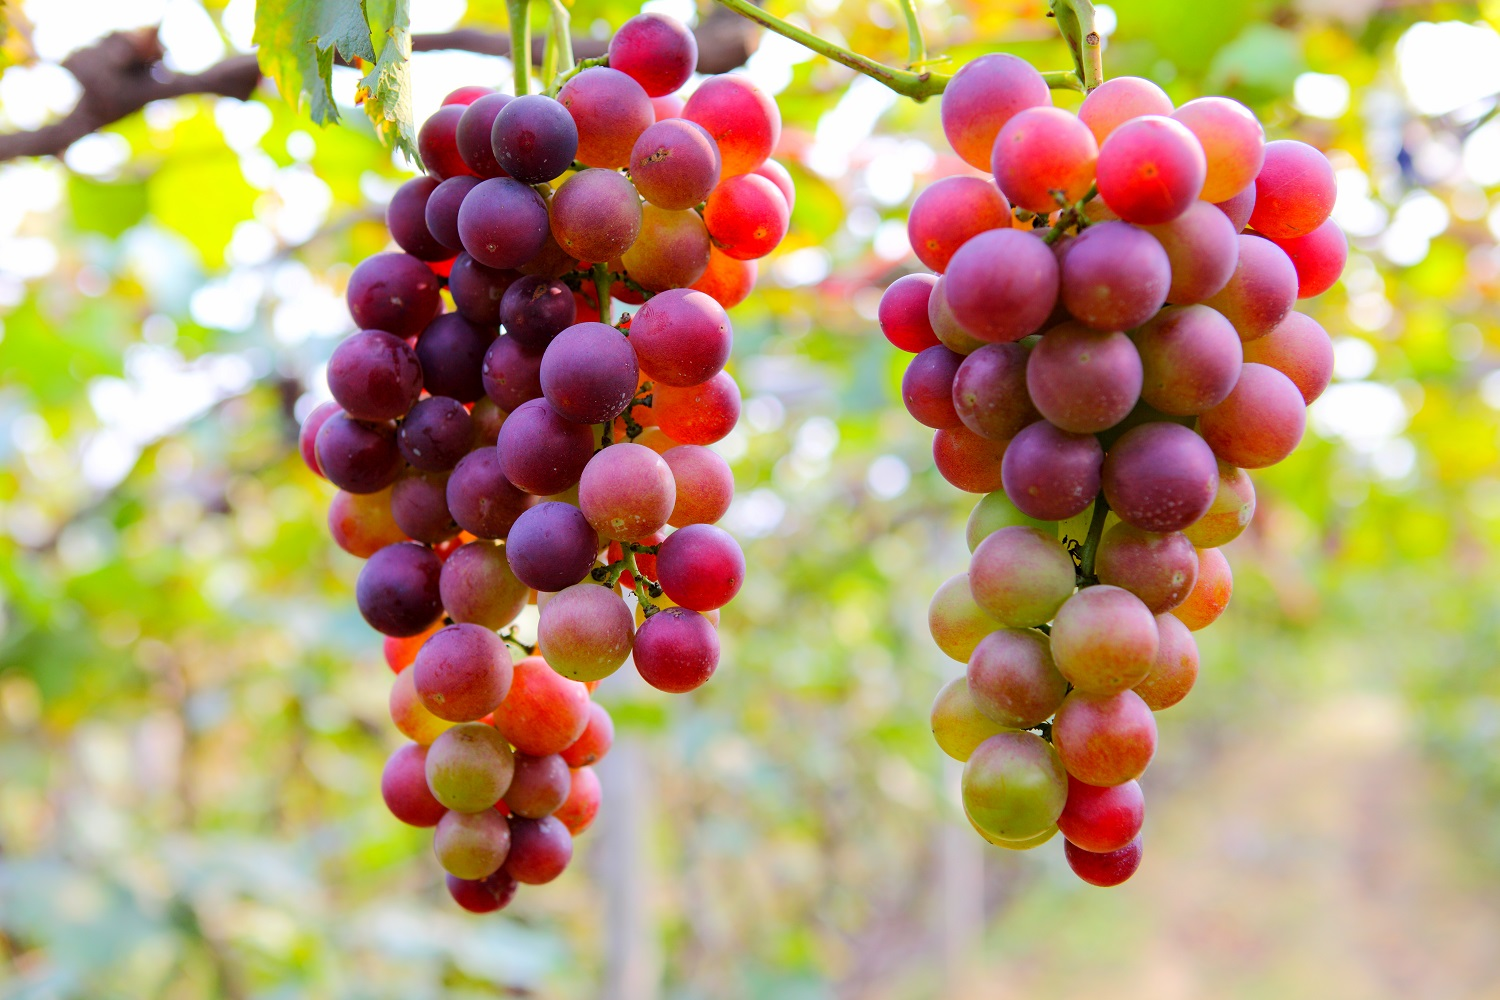Red Grapes: (939, 69, 1279, 891), (371, 77, 698, 871)
